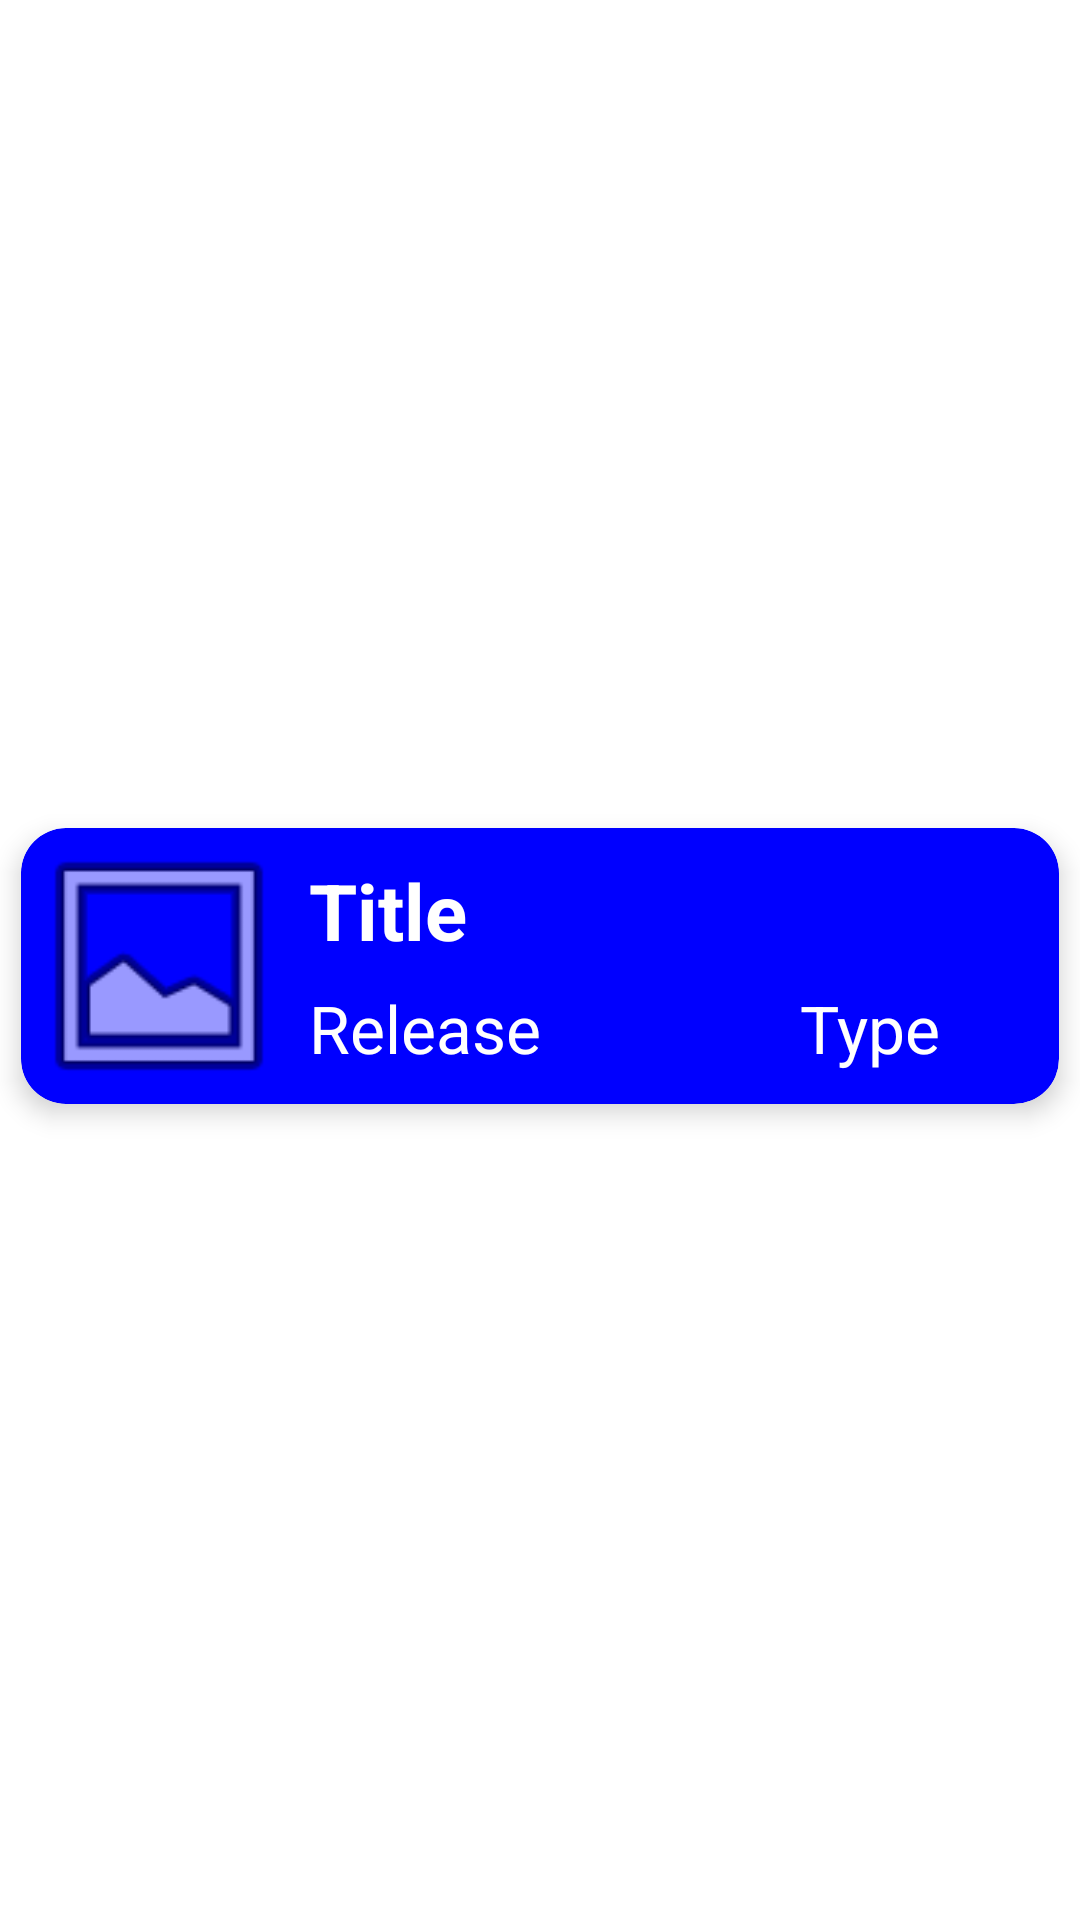

Named icons in this screenshot (1080px x 1920px) and their centers, (x,y):
Album cover image: (159,966)
